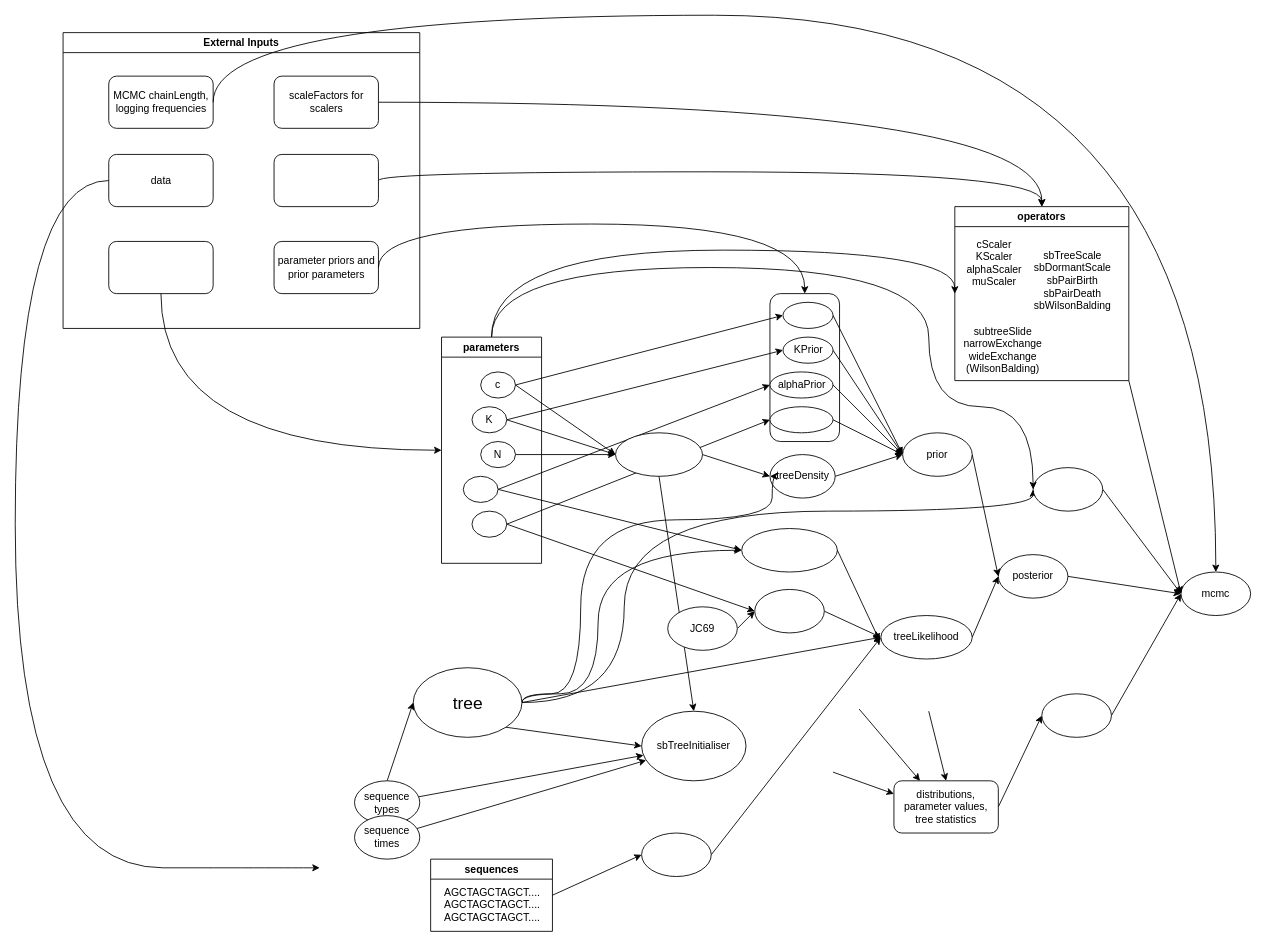
Image size: 1266x947. Some labels were removed from this diagram. Here are the shapes that lost their labels. From the top down, the centre of each, then its label:
At [325,180]: "operator weights".
At [160,267]: "parameter initial values".
At [807,314]: "cPrior".
At [801,419]: "muPrior".
At [659,454]: "transitionModel".
At [480,488]: "alpha".
At [1067,489]: "state".
At [489,523]: "mu".
At [789,550]: "branchRateModel".
At [789,611]: "siteModel".
At [1076,715]: "loggers".
At [676,854]: "alignment".
